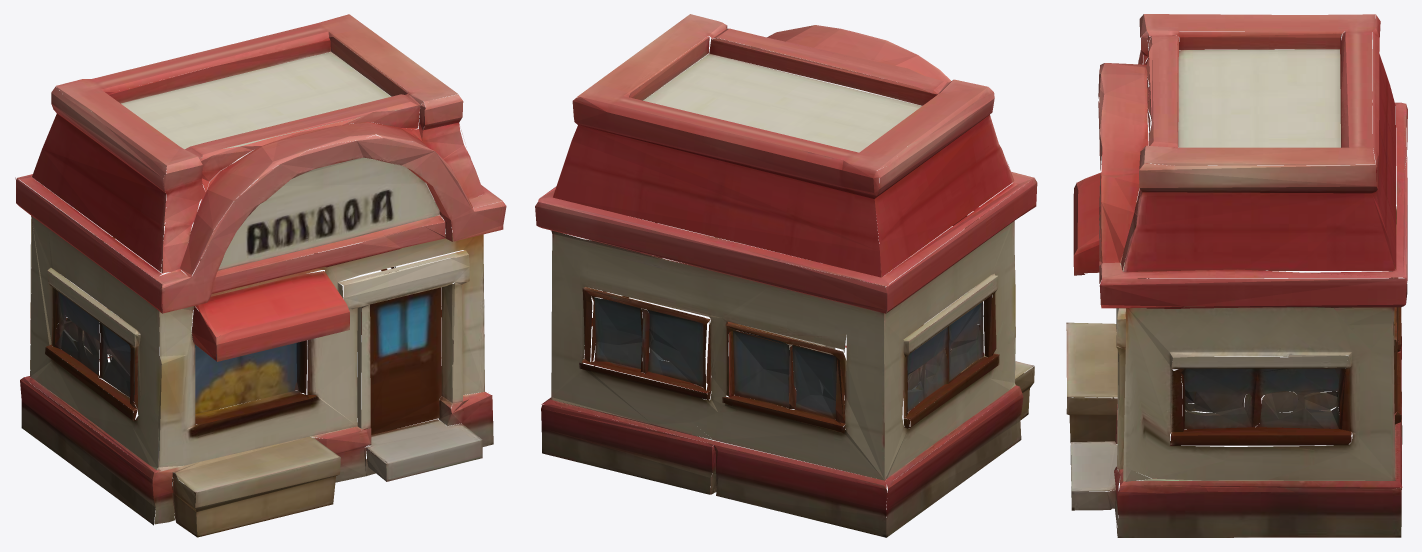
Rendered from red_roof_business.glb.
3 renders of one model, left to right at view 1: azimuth 30°, elevation 25°; view 2: azimuth 150°, elevation 25°; view 3: azimuth 270°, elevation 25°, orthographic. The views are drawn at different scales.
Parts seen in each view (by area): view 1: geometry_0; view 2: geometry_0; view 3: geometry_0.
Part boxes in pixels (<box>): geometry_0: <box>15,14,506,537</box>; geometry_0: <box>535,14,1037,537</box>; geometry_0: <box>1066,14,1407,537</box>.
Bounding box in the file's own units: 0.4933 × 0.4784 × 0.403.
1 material, 1 textured.
